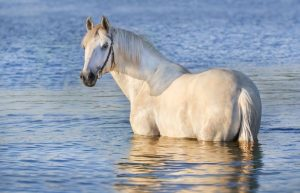Horse: (47, 4, 271, 169)
